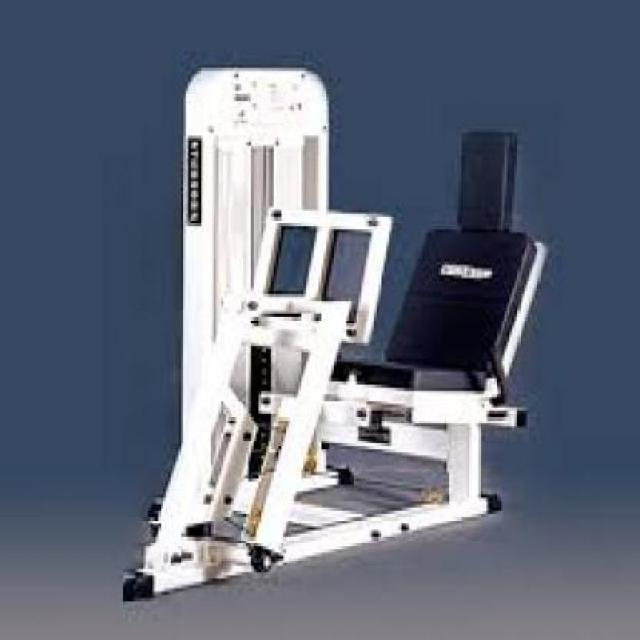leg press: (120, 52, 548, 610)
